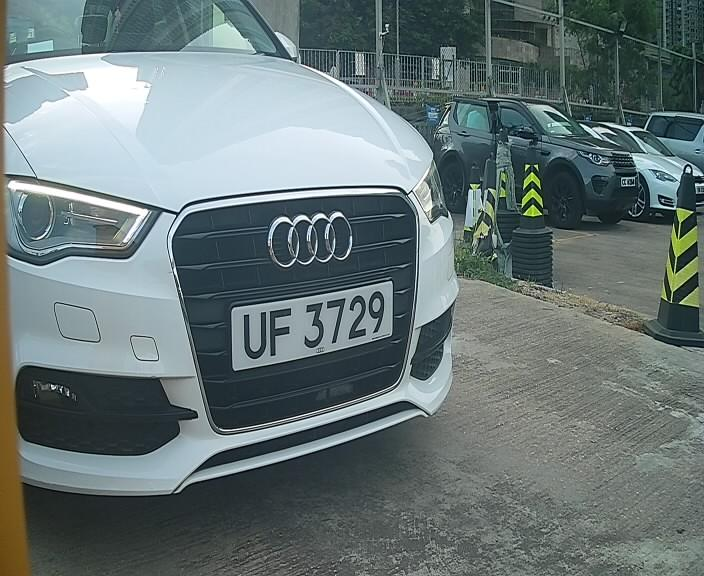License Plate: (227, 278, 400, 371)
